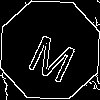M: (25, 25, 82, 85)
